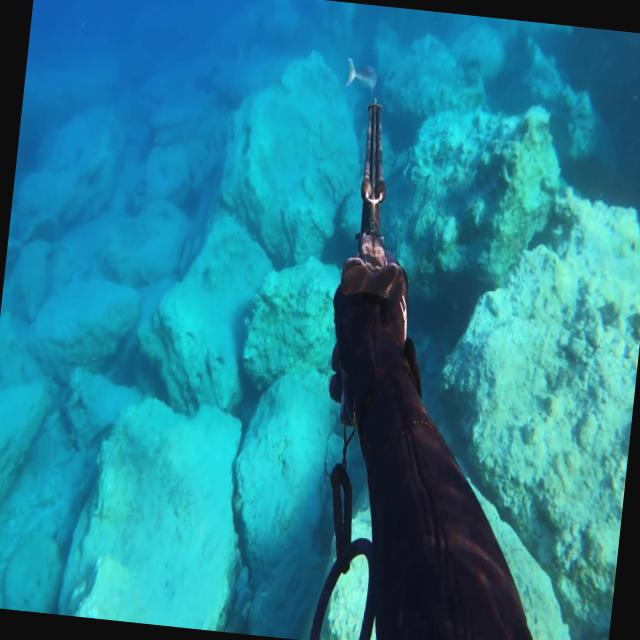Balon Baligi: (343, 56, 378, 93)
